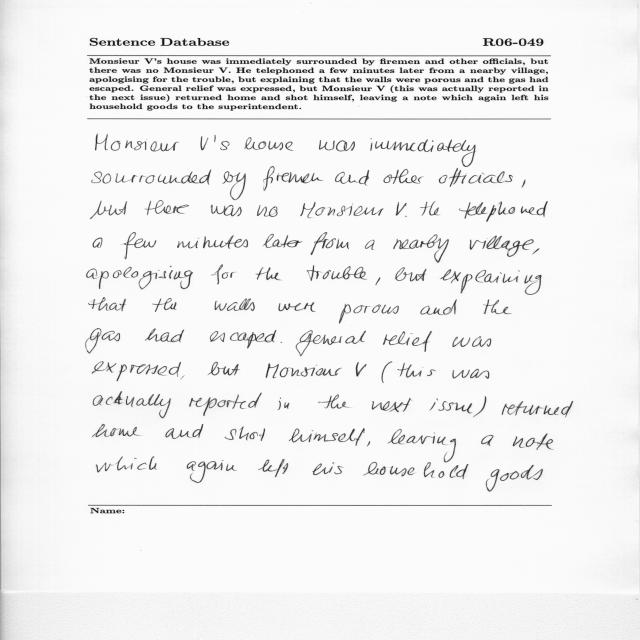word: (370, 138, 476, 167), (440, 269, 542, 295), (86, 266, 193, 289), (388, 429, 456, 462), (93, 392, 171, 418), (92, 169, 212, 185), (459, 201, 548, 222), (296, 331, 366, 357), (363, 462, 469, 479), (189, 392, 262, 416), (92, 362, 181, 381), (393, 235, 449, 263), (486, 465, 543, 492), (263, 166, 324, 191), (96, 134, 180, 151), (439, 168, 513, 187), (289, 428, 365, 446), (470, 236, 534, 257), (301, 202, 384, 218), (339, 304, 399, 324), (210, 330, 276, 348), (187, 460, 237, 483), (266, 363, 342, 378), (502, 401, 573, 417), (383, 331, 432, 352), (177, 235, 248, 249), (307, 265, 368, 281), (96, 457, 157, 473), (122, 233, 156, 260), (311, 232, 349, 255), (86, 329, 120, 354), (222, 171, 246, 200), (245, 137, 294, 151), (513, 433, 553, 450), (91, 201, 128, 219), (145, 201, 189, 216), (430, 399, 473, 414), (383, 169, 424, 184), (93, 424, 140, 437), (225, 426, 265, 441), (398, 363, 437, 378), (165, 424, 203, 439), (372, 398, 412, 412), (420, 300, 457, 315), (264, 234, 303, 248), (145, 329, 184, 343), (335, 170, 369, 186), (258, 459, 288, 477), (214, 298, 255, 311), (89, 298, 126, 311), (211, 265, 236, 284), (395, 267, 426, 282), (208, 362, 240, 376), (318, 395, 350, 409), (201, 135, 230, 150), (453, 336, 492, 347), (484, 300, 512, 315), (313, 462, 344, 475), (319, 140, 355, 151), (279, 302, 316, 312), (452, 369, 489, 379), (152, 298, 177, 312), (211, 205, 242, 216), (256, 267, 282, 280), (420, 201, 440, 216), (473, 396, 486, 417), (257, 205, 277, 217), (382, 362, 393, 383), (396, 202, 407, 217), (356, 362, 367, 376), (278, 398, 290, 410), (481, 435, 494, 446), (365, 240, 375, 250), (93, 237, 102, 248), (533, 249, 540, 255), (522, 179, 526, 188), (376, 277, 380, 286), (367, 441, 370, 447), (180, 376, 184, 379), (281, 342, 283, 343)
